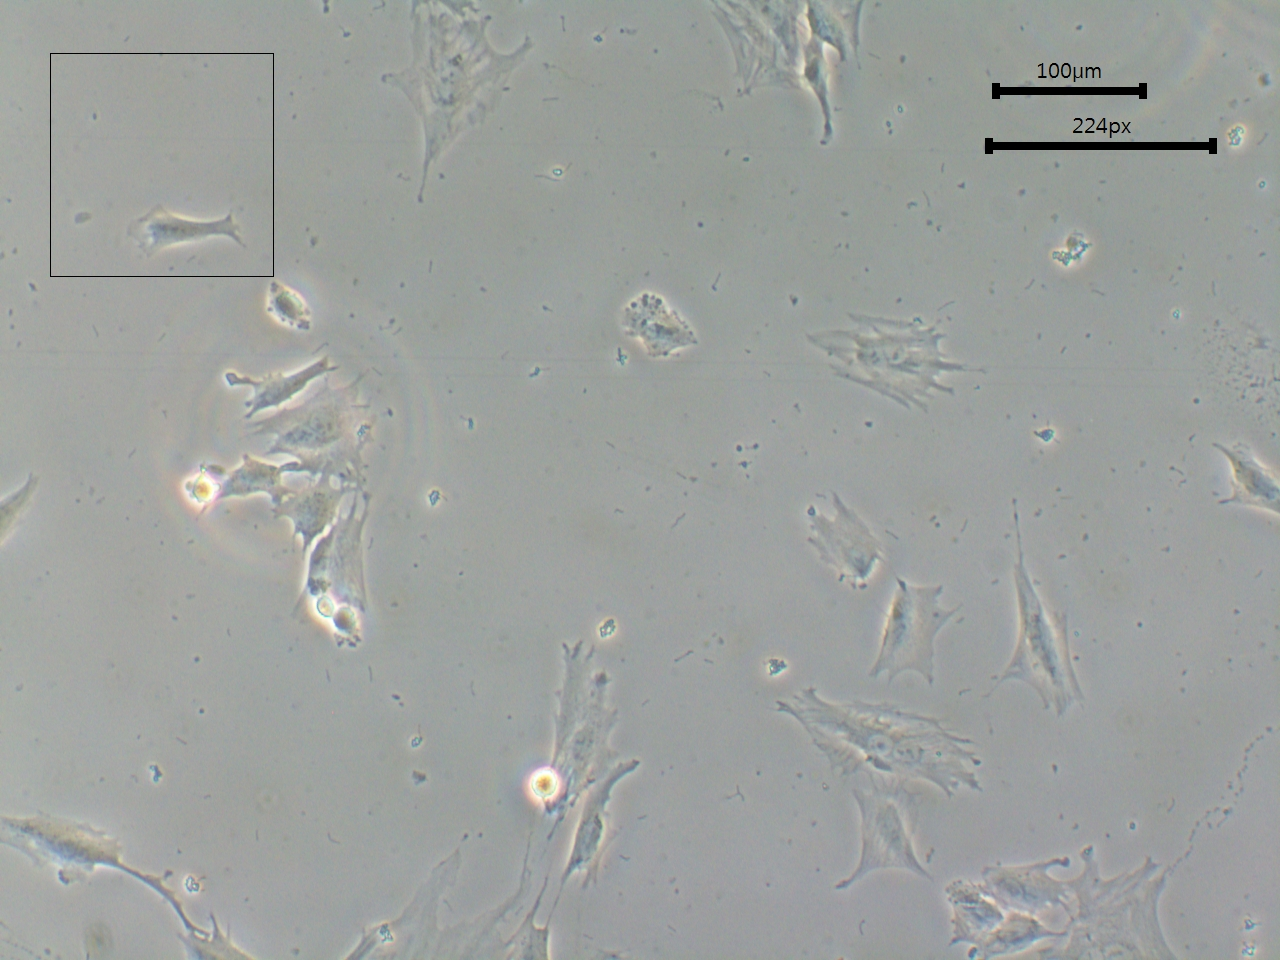medium-spread: (775, 686, 987, 804), (808, 301, 977, 426), (304, 521, 371, 666)
small-polygonal: (128, 197, 247, 263), (224, 359, 333, 418)
small-round: (258, 280, 313, 346)
small-spread: (977, 522, 1096, 721), (870, 583, 965, 704), (838, 786, 927, 890), (607, 284, 708, 369), (797, 504, 884, 593), (946, 883, 1003, 948)
